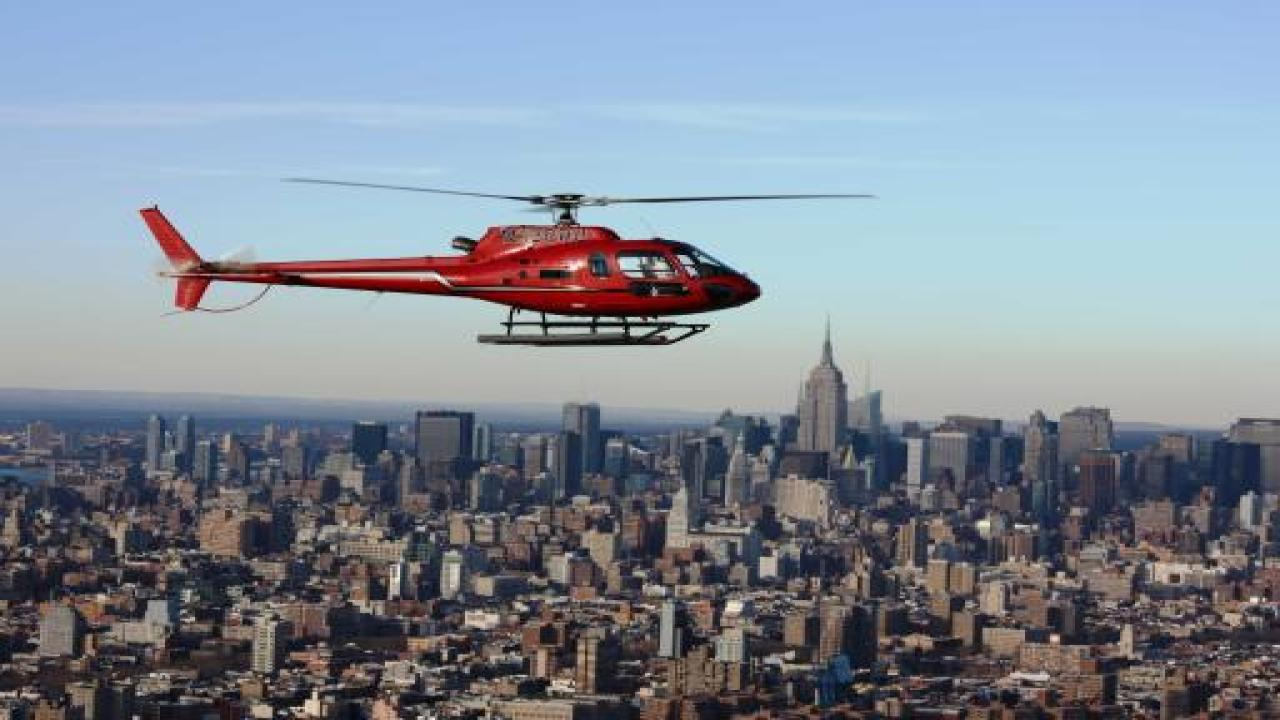Helicopter: (121, 164, 886, 360)
